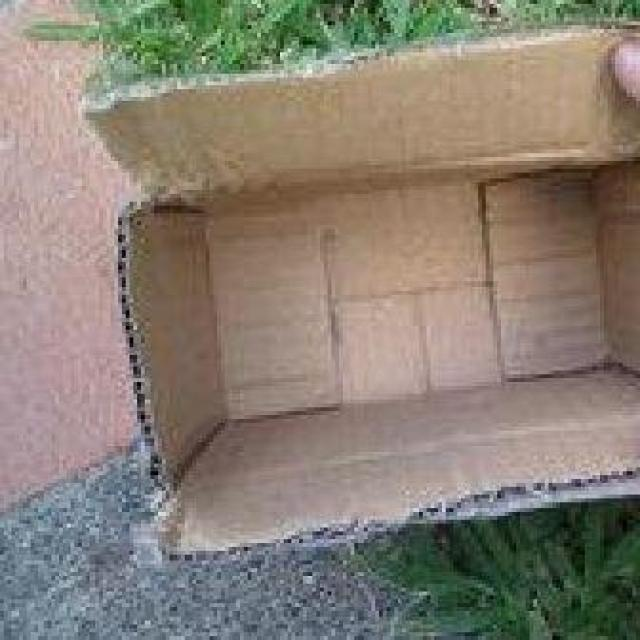cardboard: (97, 29, 640, 572)
